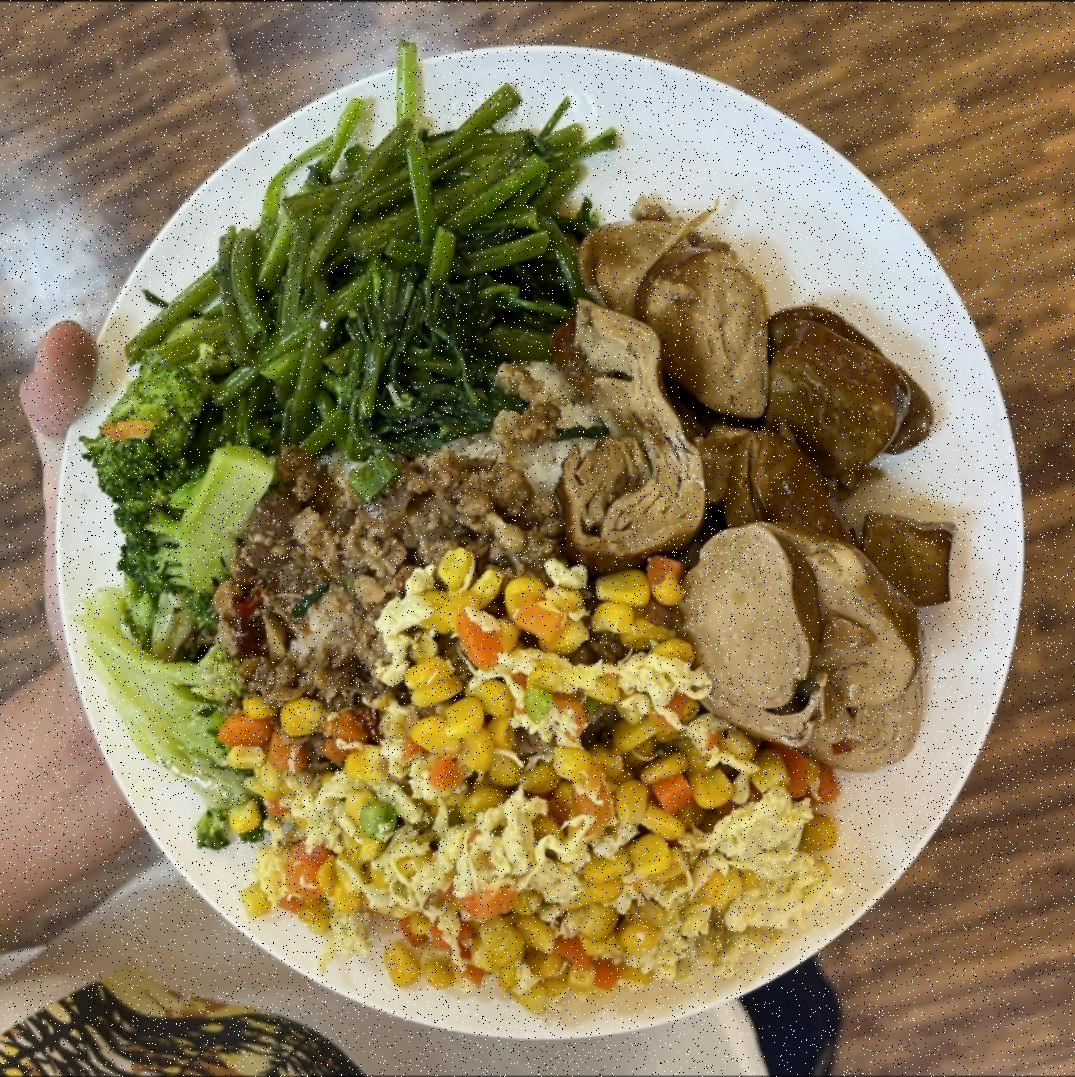plate: (30, 16, 1050, 1062)
side dish: (239, 572, 846, 1009), (560, 204, 964, 778), (195, 92, 598, 452), (67, 290, 260, 800)
stir-fried minced pork: (219, 426, 568, 707)
